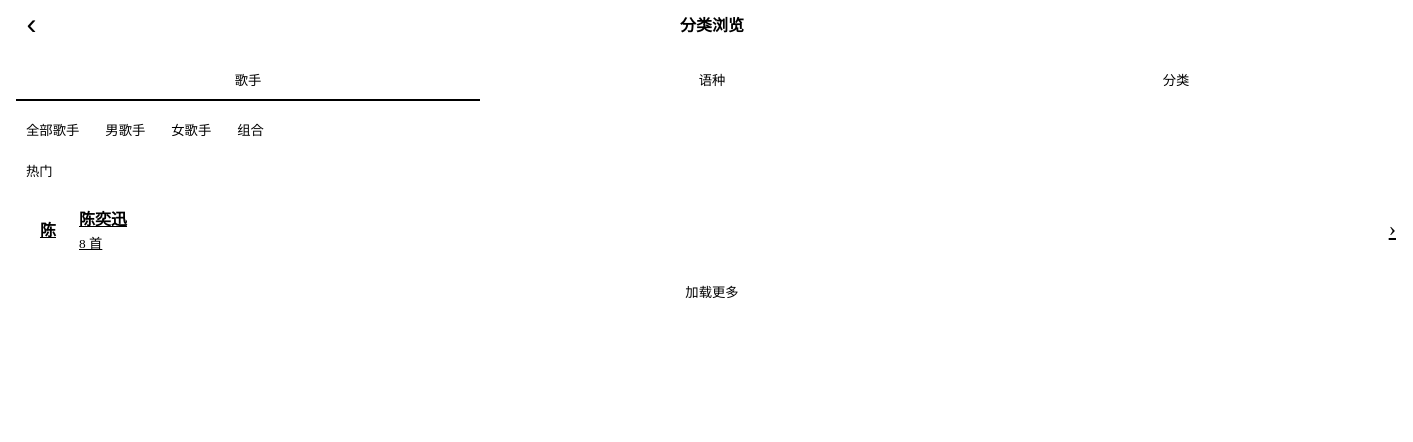
Test: CategoryBrowseView › keeps already loaded artists on later-page failure and offers retry
Click the button "加载更多" at coordinates (712, 292), box x1=667 y1=274 x2=757 y2=309
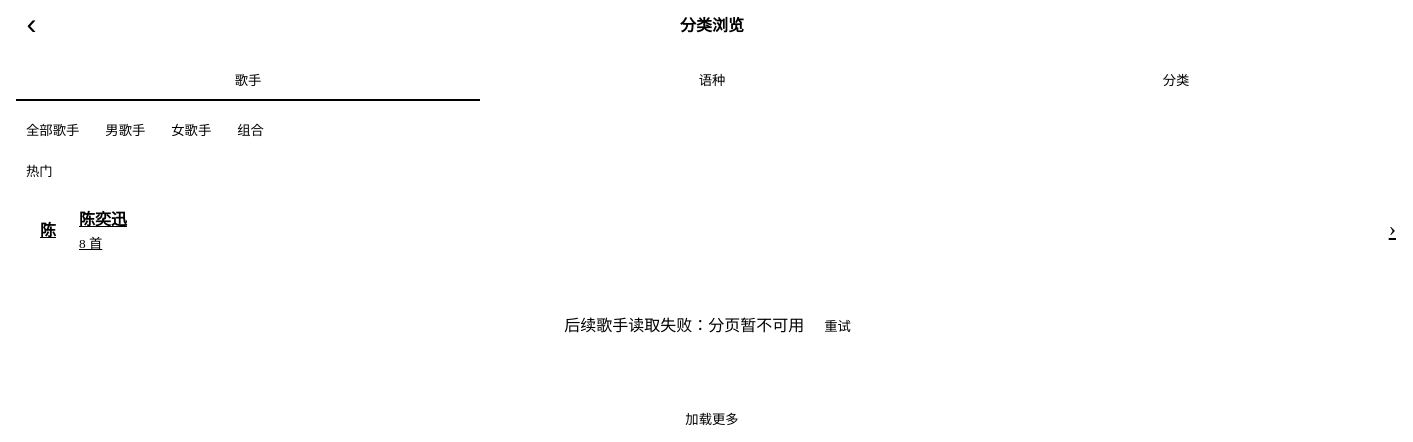
Expected: the element with class "artist-list" shows "陈奕迅", x1=28 y1=196 x2=1396 y2=262
Expected: the text "后续歌手读取失败：分页暂不可用" is shown, x1=564 y1=317 x2=808 y2=334
Click the button with class "retry" at coordinates (838, 326), box x1=815 y1=312 x2=860 y2=339
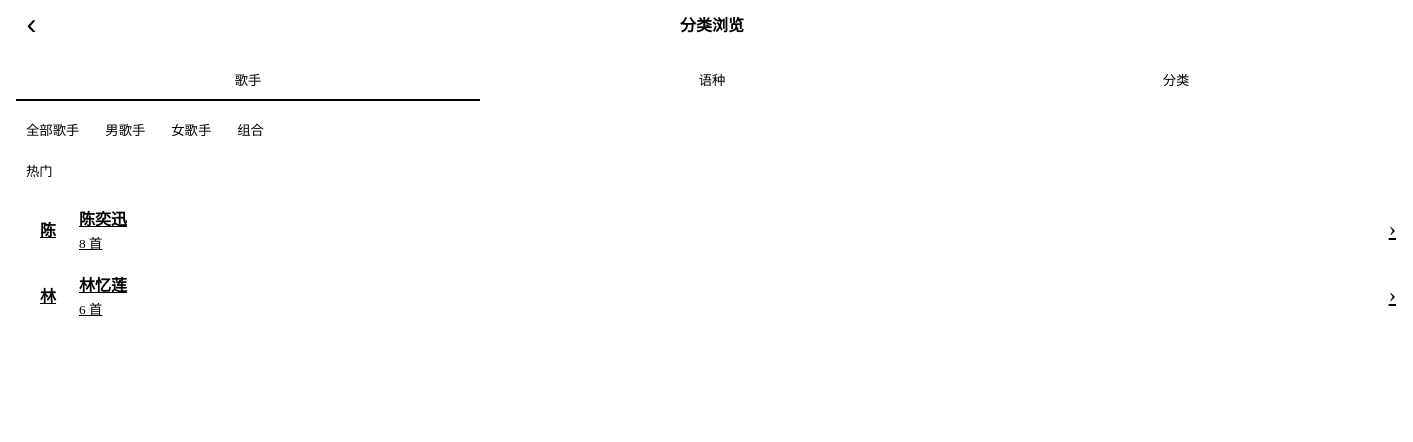
Expected: the element with class "artist-list" shows "陈奕迅", x1=28 y1=196 x2=1396 y2=262
Expected: the element with class "artist-list" shows "林忆莲", x1=28 y1=262 x2=1396 y2=328
